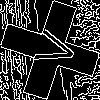V: (25, 25, 78, 71)
